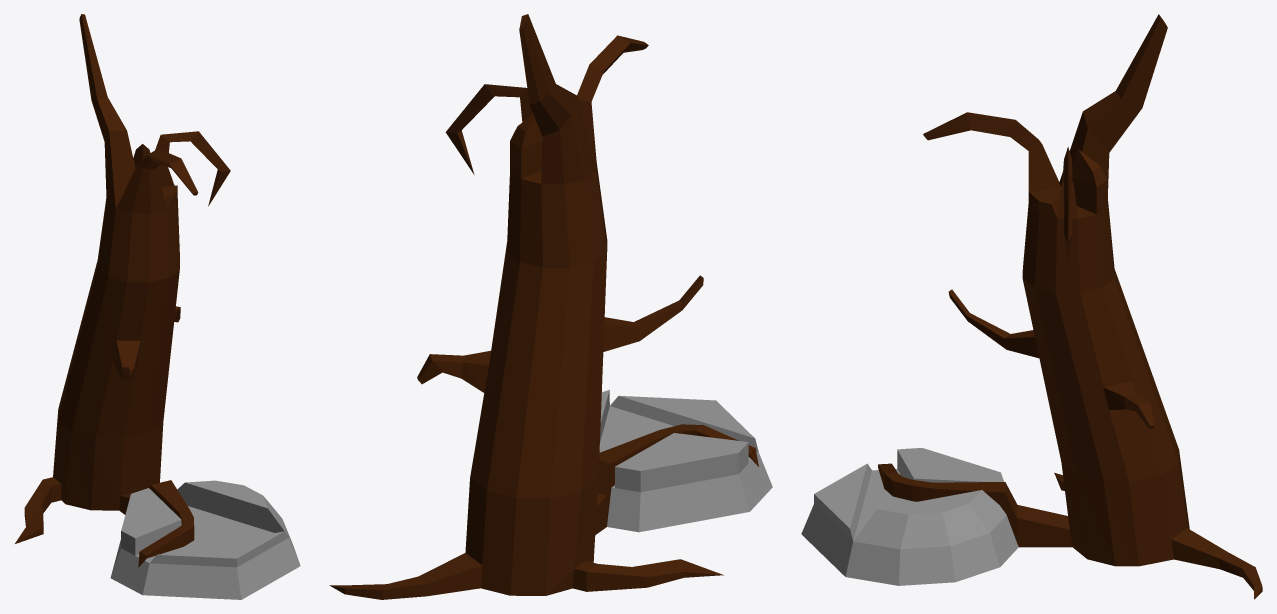
Rendered from Tree with Rock.FBX.
The picture shows the model from 3 angles, left to right: view 1: azimuth 30°, elevation 25°; view 2: azimuth 150°, elevation 25°; view 3: azimuth 270°, elevation 25°; orthographic projection. The views are drawn at different scales.
Visible parts, largest first — view 1: Tree, Rock; view 2: Tree, Rock; view 3: Tree, Rock.
Part boxes in pixels (x1,y1,x2,y2): Tree: [15, 14, 230, 567]; Rock: [110, 480, 300, 599]; Tree: [329, 14, 758, 599]; Rock: [599, 390, 772, 532]; Tree: [878, 14, 1262, 599]; Rock: [801, 448, 1018, 585].
Size of the model in its own units: 40.4 by 76.95 by 61.77.
